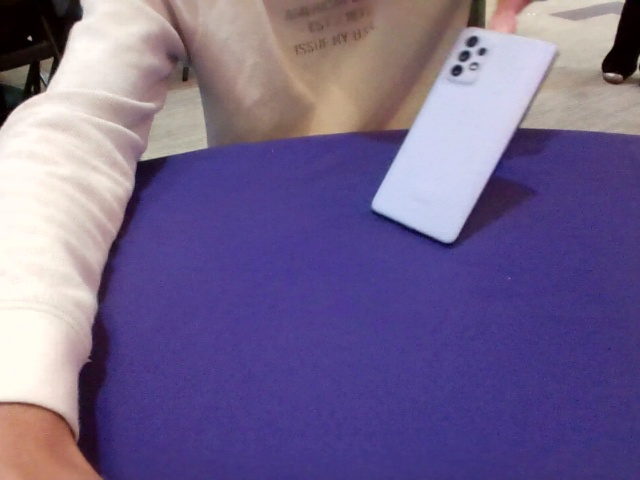celular: (369, 25, 558, 245)
